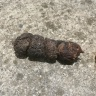Dog: (14, 33, 85, 66)
